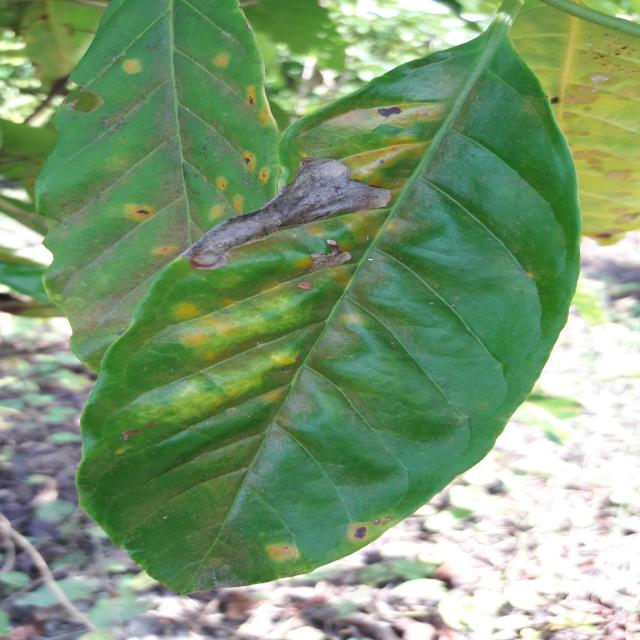Enfermedad-Roya: (72, 35, 577, 597)
